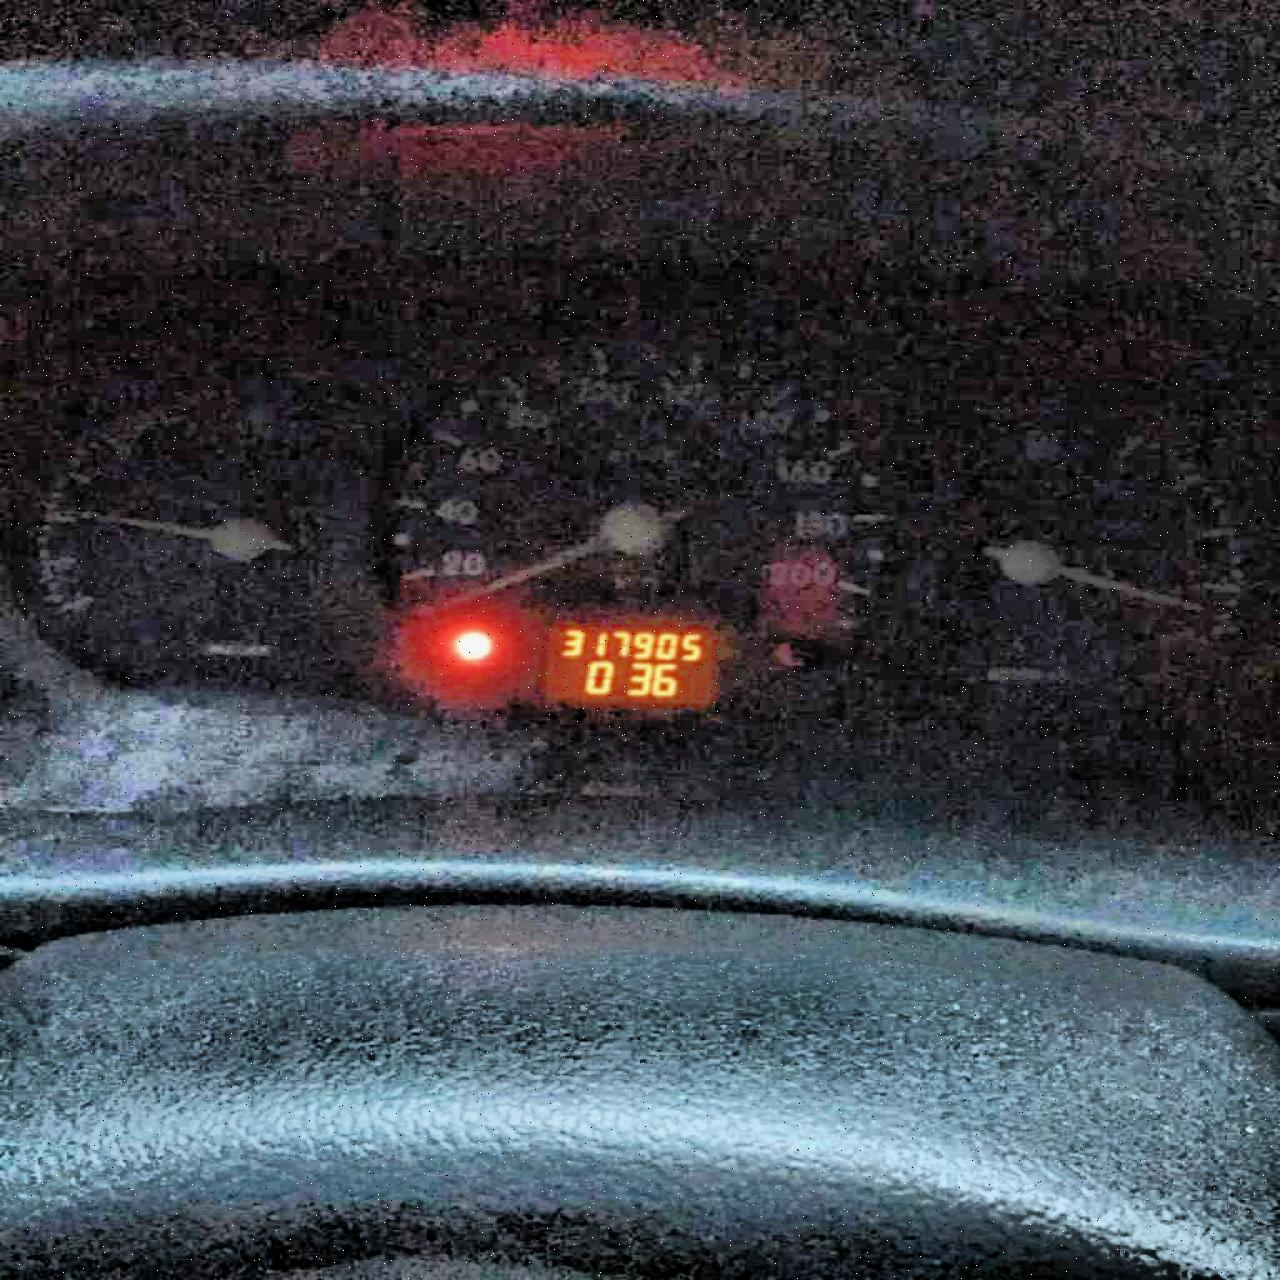0: (580, 659, 613, 696), (656, 629, 675, 660)
1: (592, 629, 606, 655)
3: (558, 625, 584, 658), (627, 659, 648, 697)
5: (680, 629, 702, 661)
6: (652, 661, 679, 700)
7: (613, 629, 629, 656)
9: (632, 629, 652, 659)
odometer: (545, 621, 716, 703)
